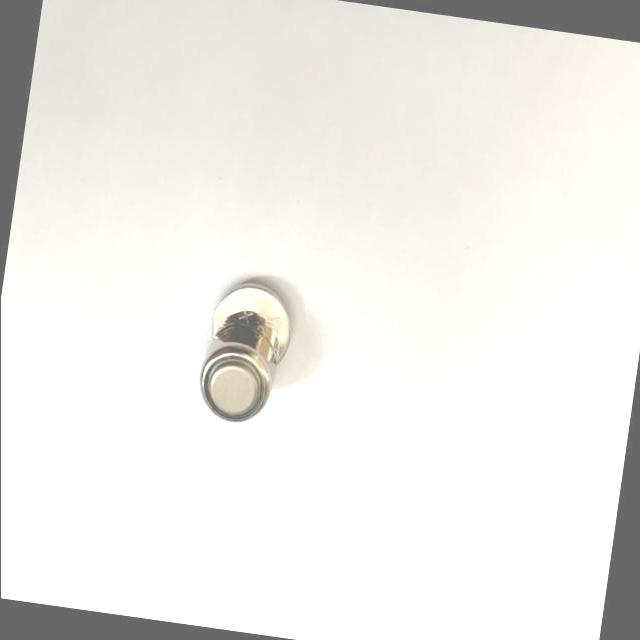COIN: (194, 323, 278, 428), (208, 272, 297, 364)
